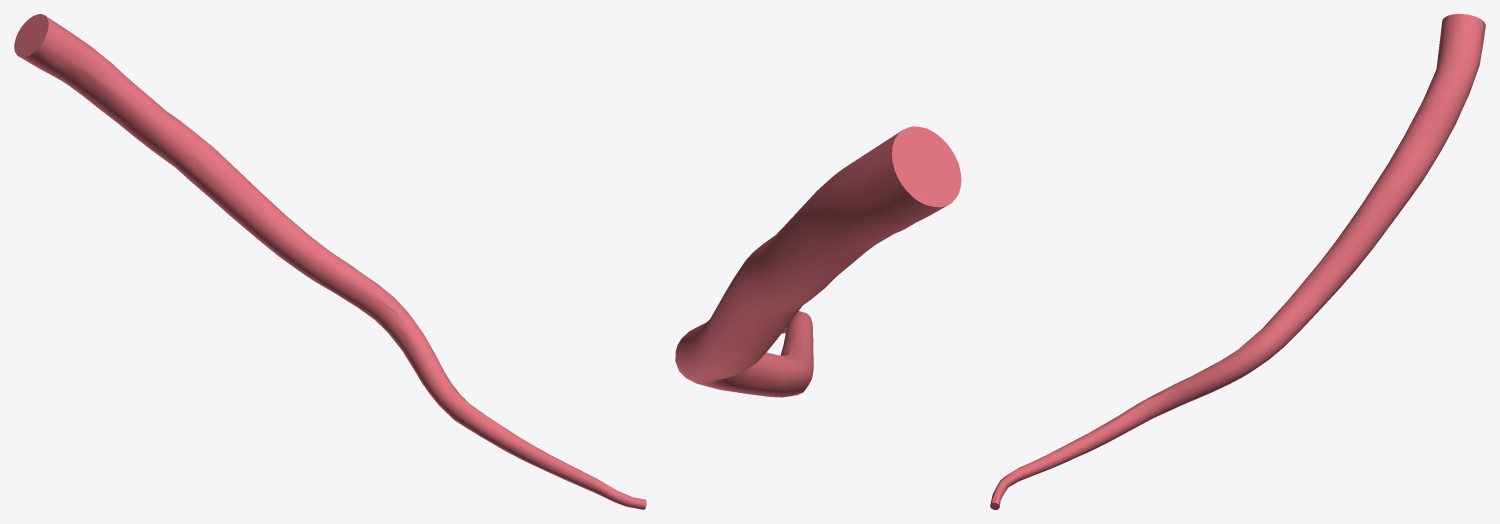
File: fma4712_mm638.glb
3 views of the same model, side by side, from view 1: azimuth 30°, elevation 25°; view 2: azimuth 150°, elevation 25°; view 3: azimuth 270°, elevation 25° (orthographic). The views are drawn at different scales.
Visible parts, largest first — view 1: FMA4712_MM638; view 2: FMA4712_MM638; view 3: FMA4712_MM638.
Boxes of the visible parts, x1=… form: FMA4712_MM638: x1=14, y1=14, x2=646, y2=509; FMA4712_MM638: x1=675, y1=126, x2=961, y2=397; FMA4712_MM638: x1=990, y1=14, x2=1485, y2=509.
Bounding box in the file's own units: 0.0341 × 0.0342 × 0.0442.
